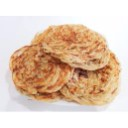parota: (43, 24, 112, 67), (62, 55, 119, 106), (11, 46, 67, 96)
